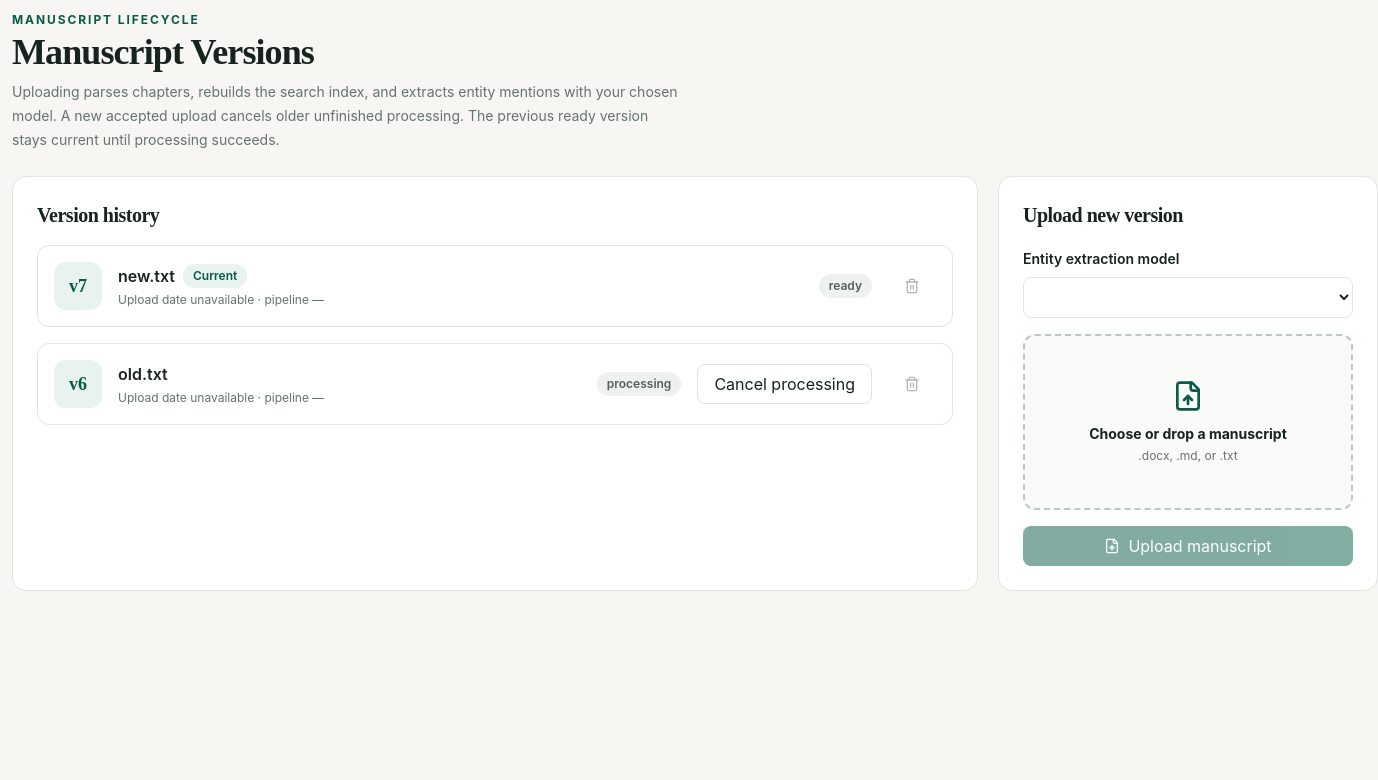
Test: cancels a processing version after reload (failure=false)
The width and height of the screenshot is (1378, 780).
What coordinates should you click on to do the following:
click the button with aria-label "Cancel processing version 6"
I would click on:
 (785, 384)
Its box is [697, 364, 872, 404].
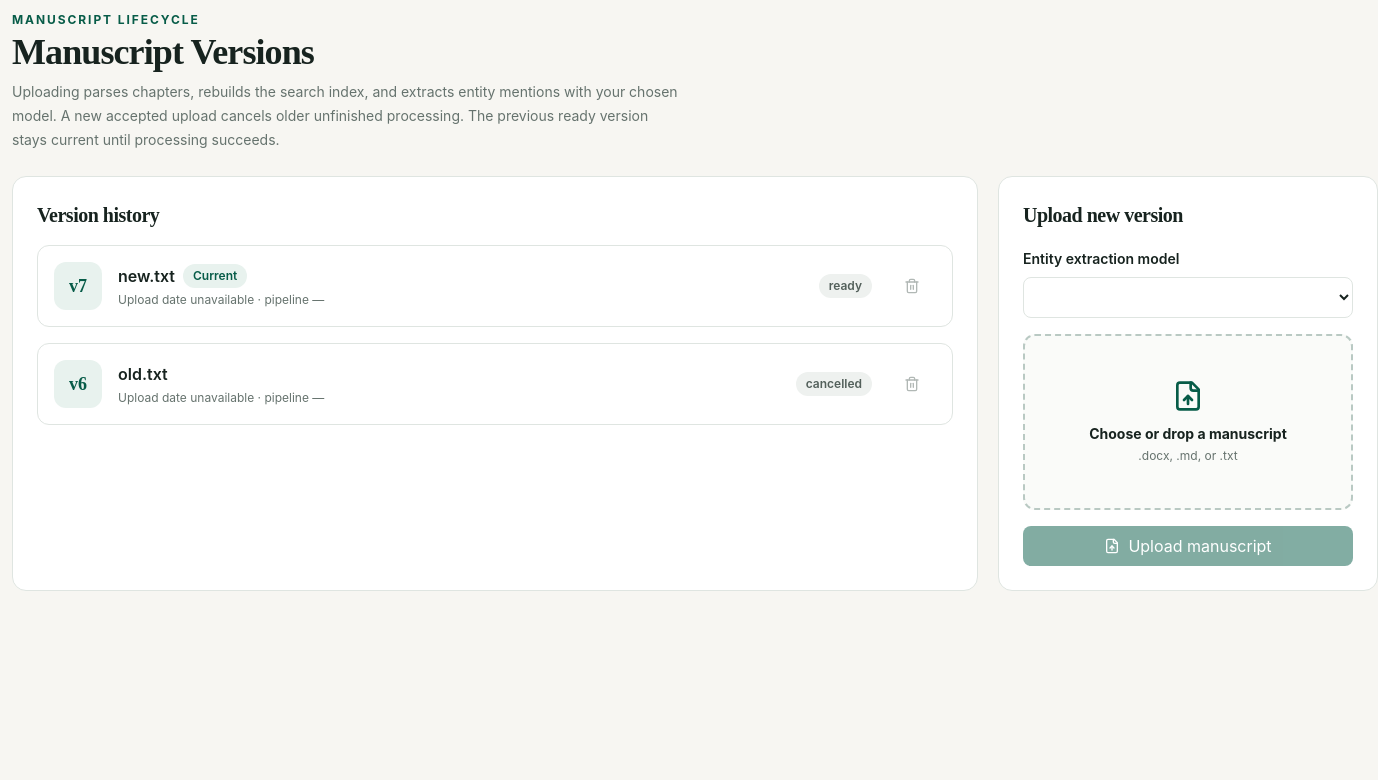
Result: the text "cancelled" is shown at [796, 372, 872, 396]
